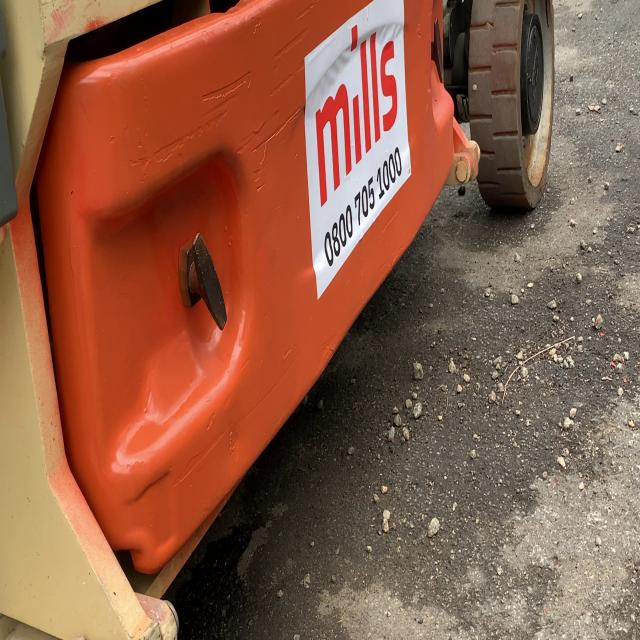Adesivos: (302, 1, 416, 307)
